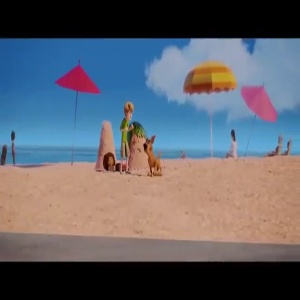Scooby: (142, 135, 155, 154)
Shagy: (118, 99, 137, 125)
